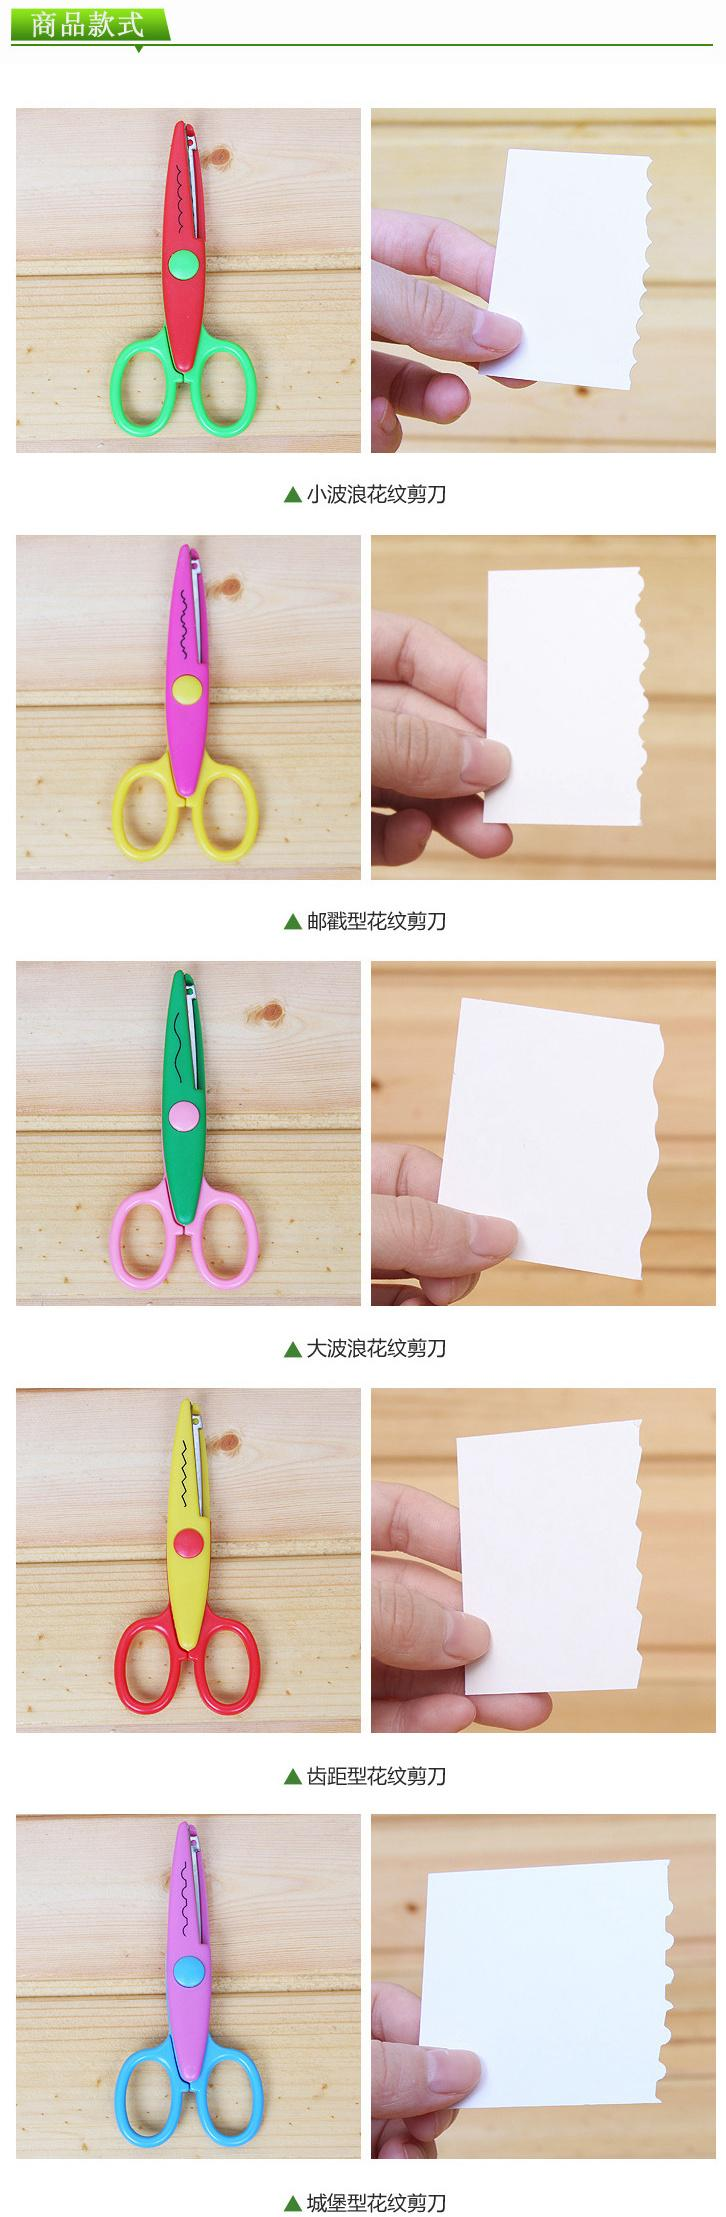scissor: (51, 112, 395, 2143)
